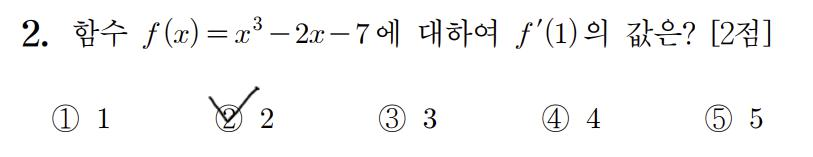1: (206, 84, 261, 138)
paper: (700, 102, 734, 137), (539, 100, 573, 135), (374, 101, 408, 136), (211, 101, 245, 136), (49, 100, 83, 135)
